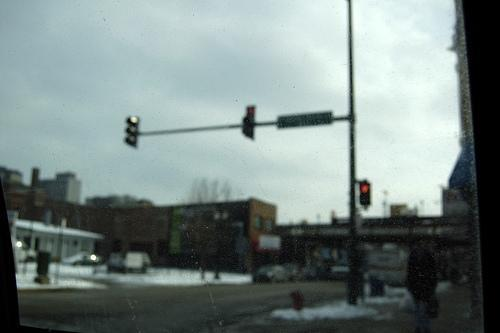car: (107, 252, 151, 274), (258, 264, 291, 282), (61, 250, 98, 266), (330, 261, 353, 280), (279, 263, 300, 283), (299, 266, 320, 280)
